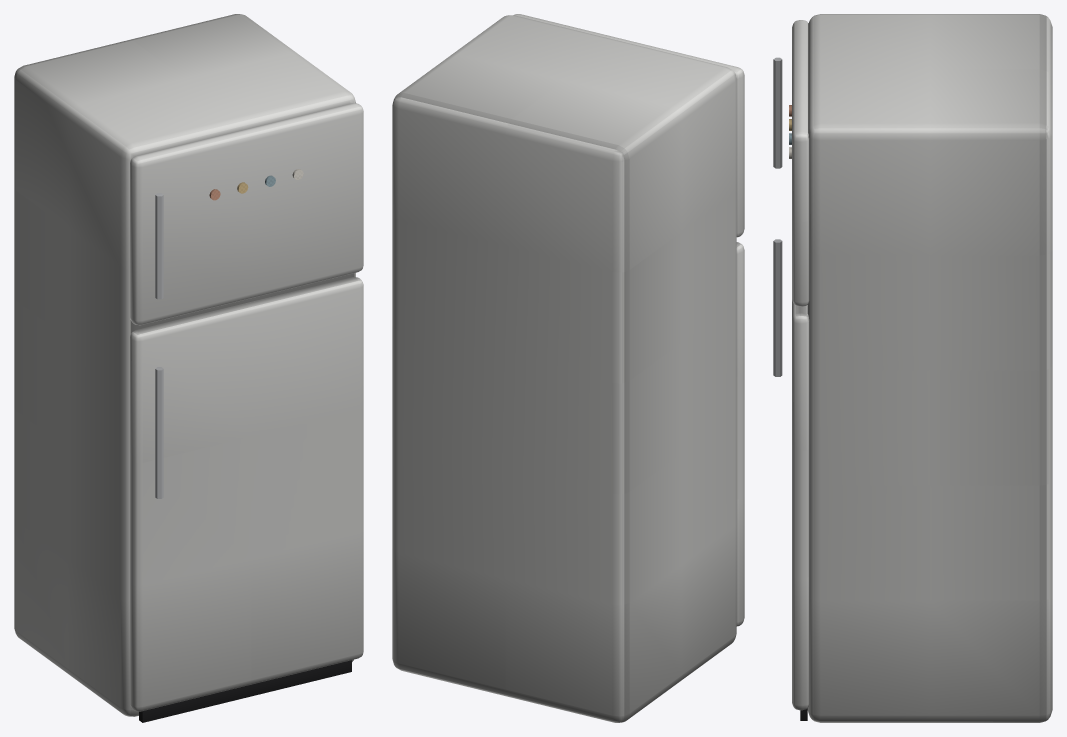
Rendered from fridge.glb.
3 renders of one model, left to right at view 1: azimuth 30°, elevation 25°; view 2: azimuth 150°, elevation 25°; view 3: azimuth 270°, elevation 25°, orthographic. The views are drawn at different scales.
Visible parts, largest first — view 1: body; view 2: body; view 3: body.
Boxes of the visible parts, x1,y1,x2,y2 form: body: (14,14,363,722); body: (392,14,744,722); body: (773,14,1052,722).
Size of what is drawn, in the model's own units: 0.76 by 1.78 by 0.752.
7 materials, 4 textured.
